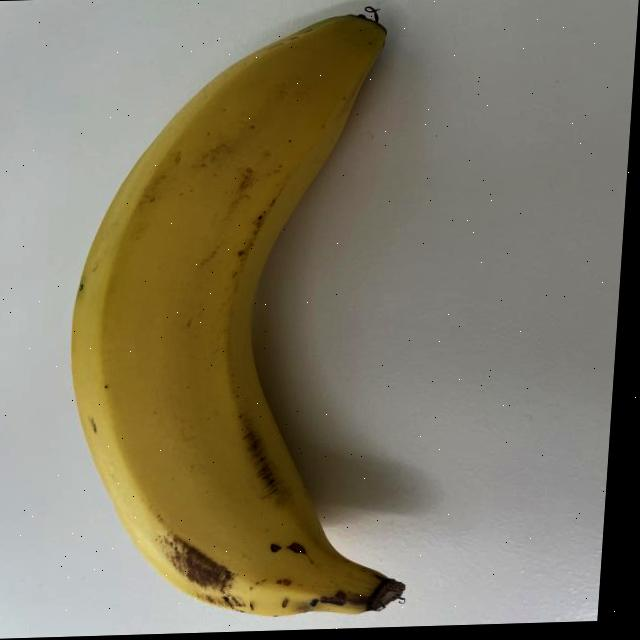banana: (46, 4, 448, 624)
